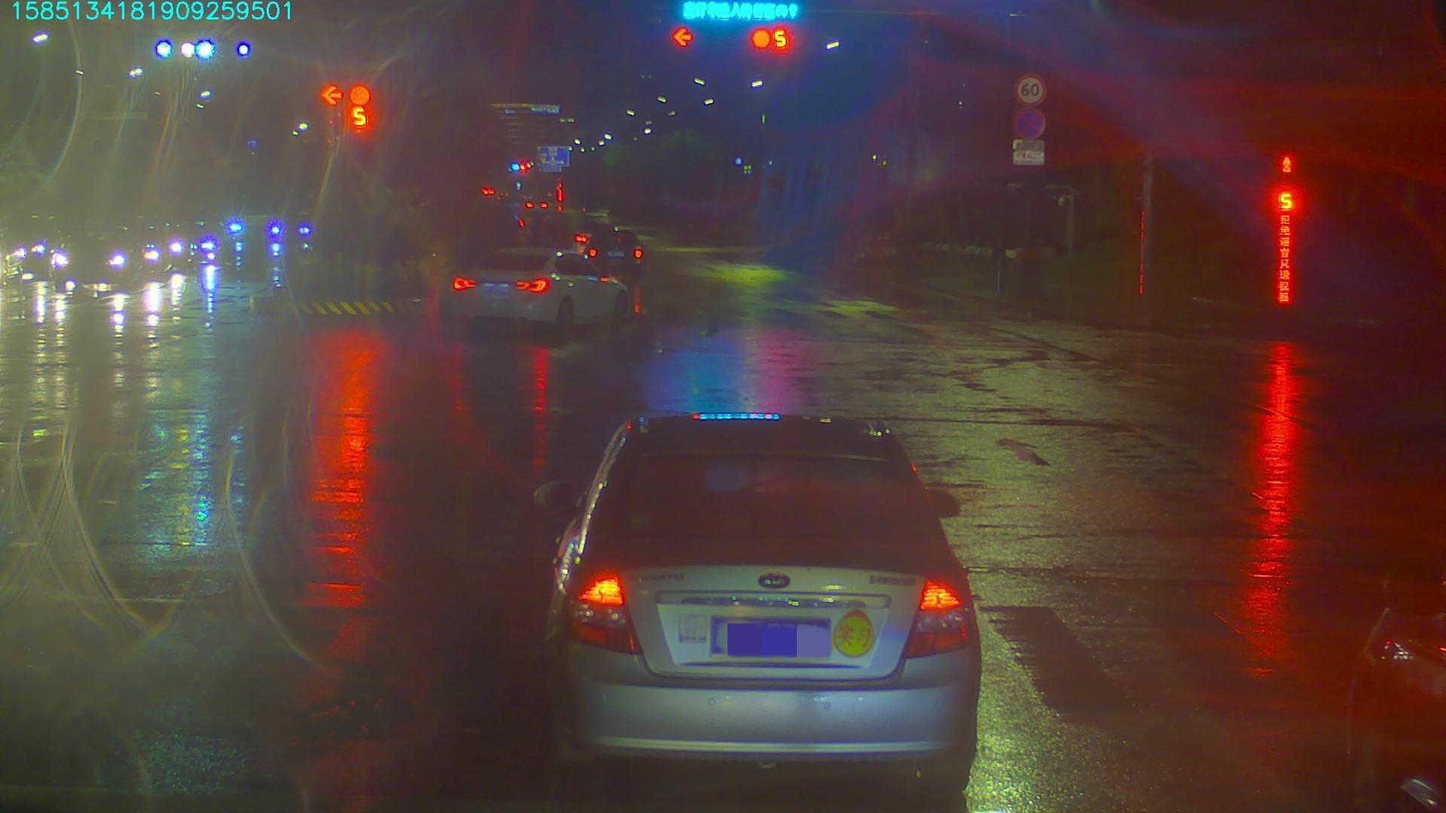red: (669, 26, 700, 49), (758, 32, 789, 49)
wait_on: (676, 3, 801, 21)
